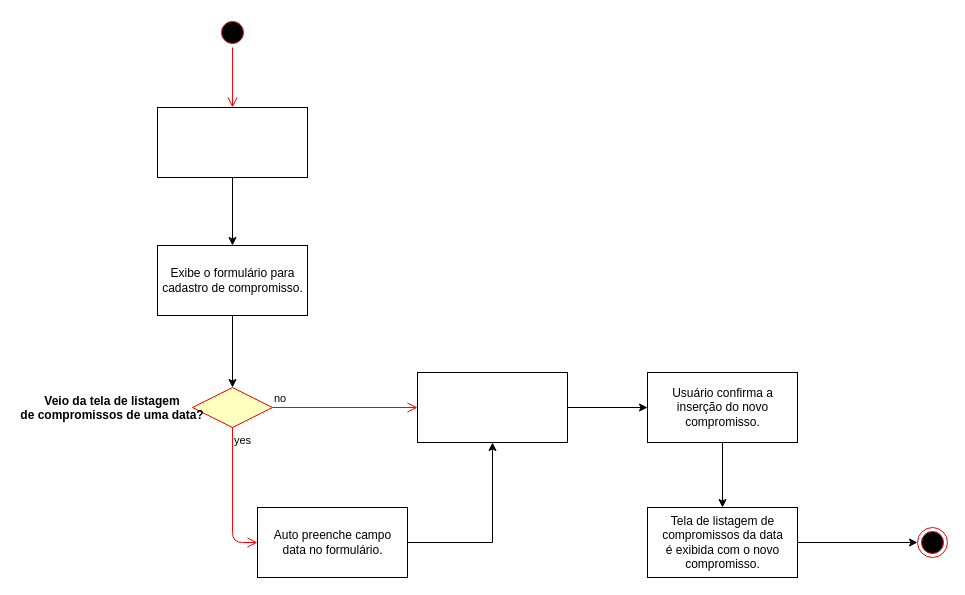
This 965x595 diagram has some shape labels left out. The centre of each missing label's shape, as x and y in pixels:
Clica no botão flutuante de adicionar: [232,142]
Usuário preenche formulário com detalhes do compromisso.: [492,407]
